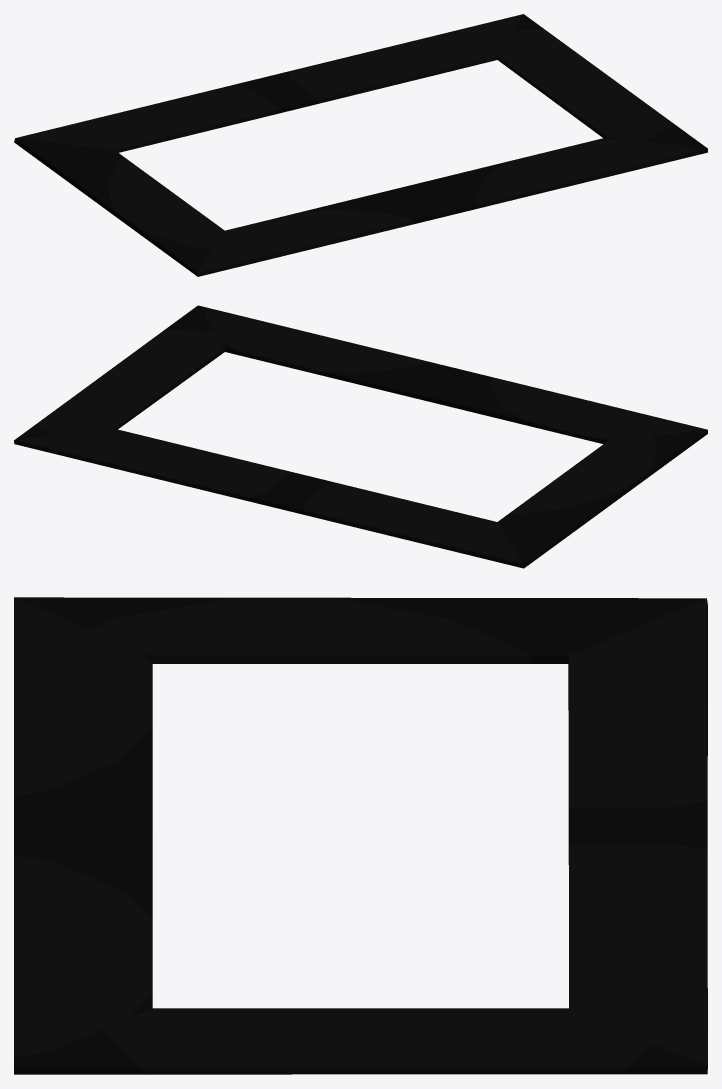
File: Second_floor_low.fbx
The picture shows the model from 3 angles, top to bottom: view 1: azimuth 30°, elevation 25°; view 2: azimuth 150°, elevation 25°; view 3: azimuth 270°, elevation 25°; orthographic projection. The views are drawn at different scales.
Parts seen in each view (by area): view 1: polySurface104; view 2: polySurface104; view 3: polySurface104.
Boxes of the visible parts, bbox=[...] form: polySurface104: bbox=[14, 14, 707, 276]; polySurface104: bbox=[14, 305, 707, 568]; polySurface104: bbox=[14, 597, 707, 1074].
Bounding box in the file's own units: 2400 × 19 × 1500.
